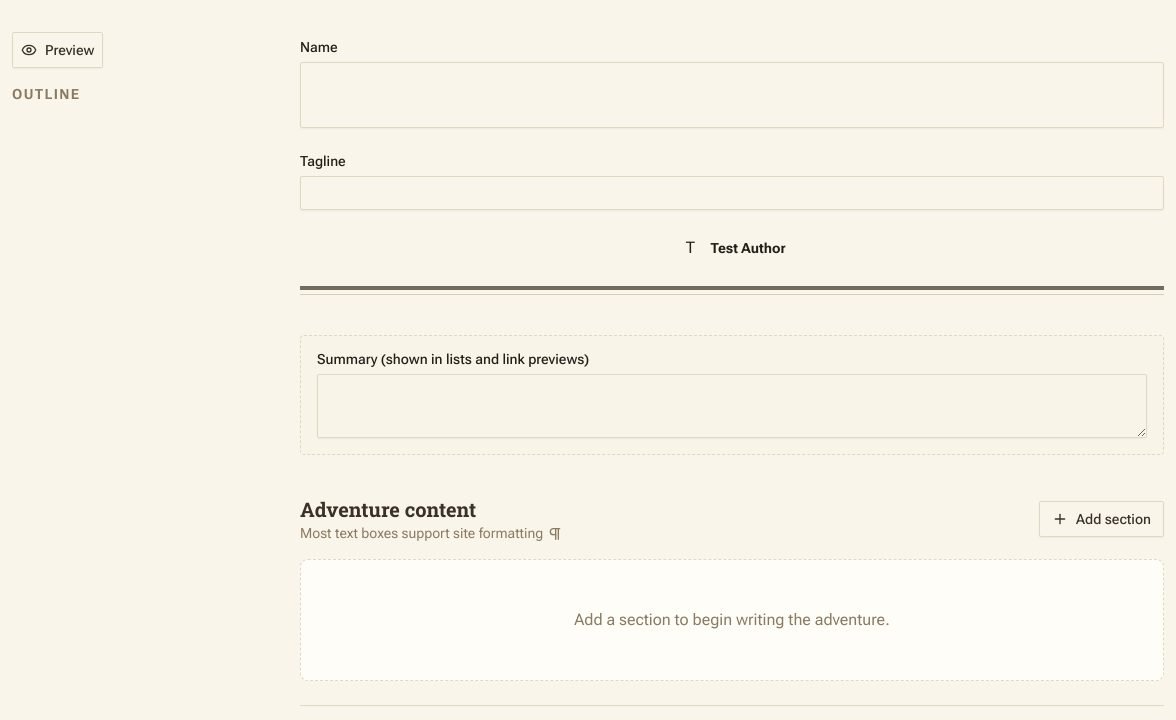
Scenario: AdventureForm › defaults top-level nodes to sections and child nodes to text
Click the button "Add section": click(1102, 519) [1039,501,1164,537]
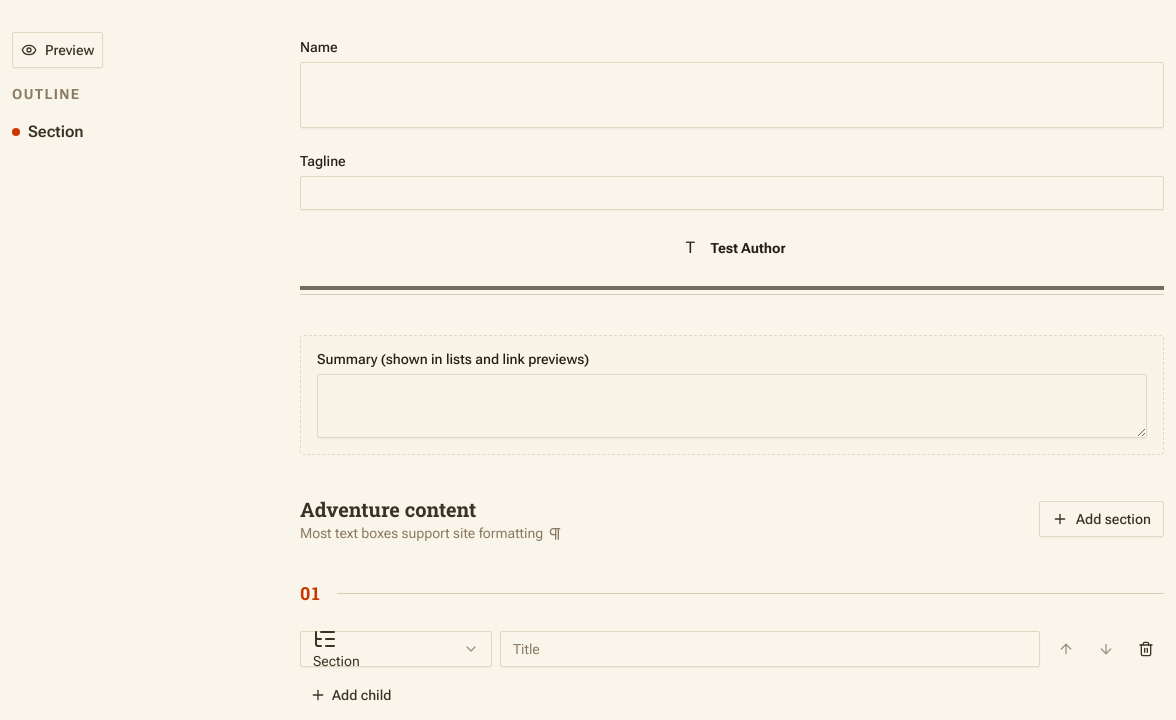
expect the number of dropdowns is 1: met, box [300,631,492,667]
expect the dropdown reads "Section": met, box [300,631,492,667]
Click the button "Add child": click(351, 695) [300,679,401,711]
(page scrolled)
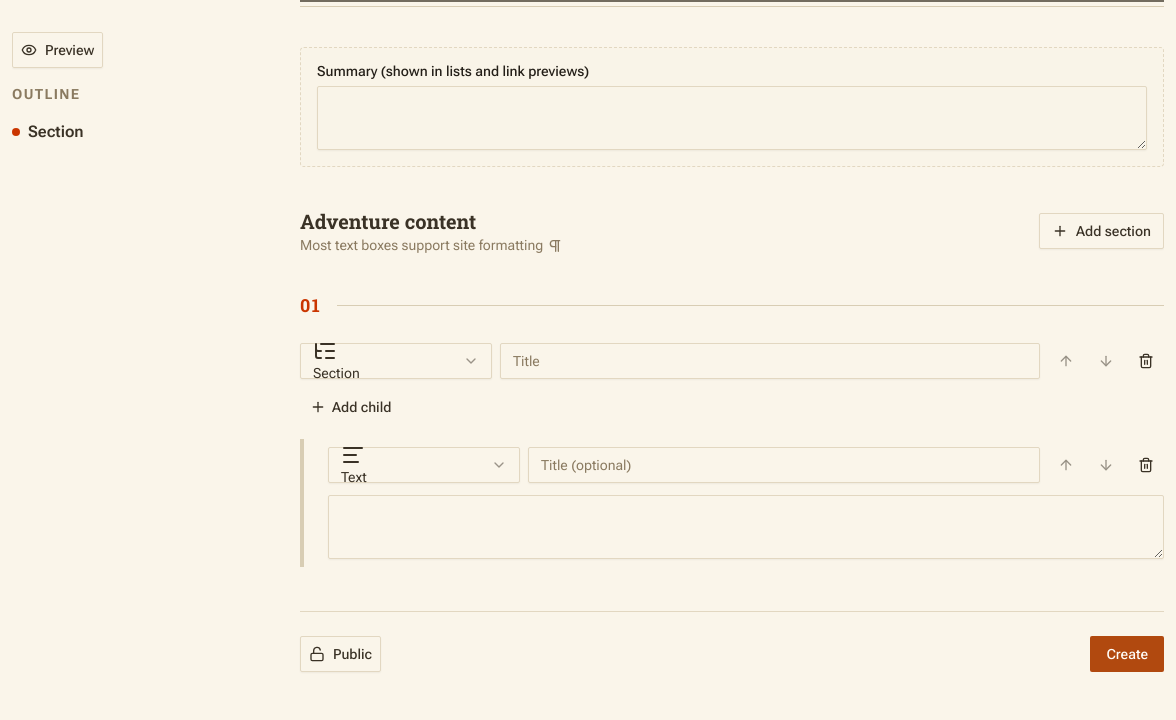
expect the number of dropdowns is 2: met, box [300,343,492,379]; [328,447,520,483]
expect the field with placeholder "Title (optional)" is shown: met, box [528,447,1040,483]
expect the text box named "text content" is shown: met, box [328,495,1164,559]
